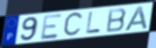9: (19, 16, 40, 42)
A: (123, 5, 149, 32)
B: (106, 7, 128, 34)
C: (62, 11, 85, 39)
E: (40, 13, 64, 41)
L: (85, 11, 101, 35)
